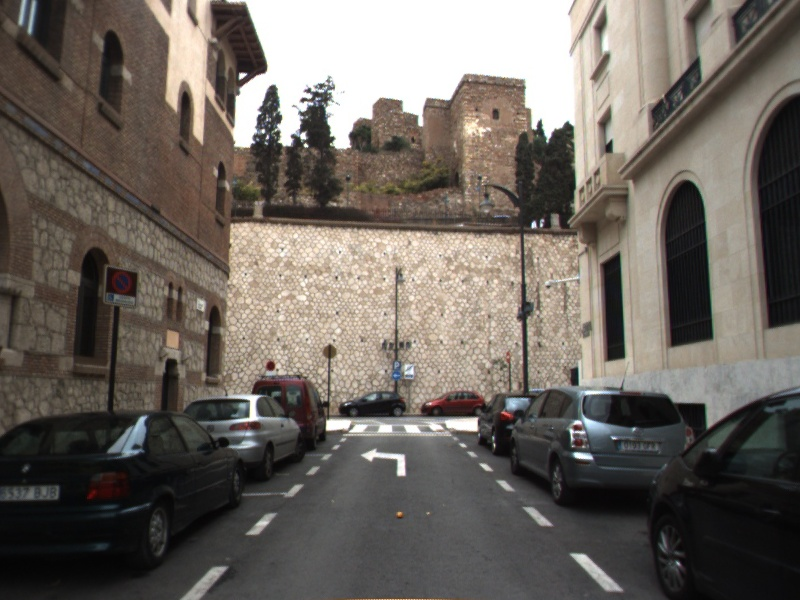LEFT: (359, 446, 408, 478)
